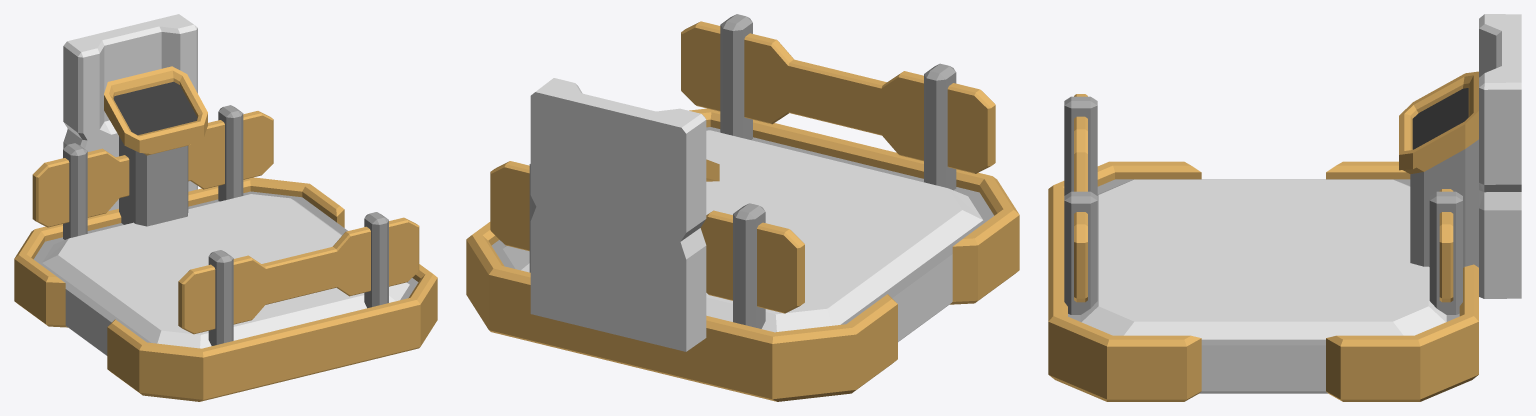
The model's file is SM_Platform.fbx.
3 views of the same model, side by side, from view 1: azimuth 30°, elevation 25°; view 2: azimuth 150°, elevation 25°; view 3: azimuth 270°, elevation 25° (orthographic). The views are drawn at different scales.
Parts seen in each view (by area): view 1: SM_Platform; view 2: SM_Platform; view 3: SM_Platform.
Boxes of the visible parts, x1,y1,x2,y2 form: SM_Platform: (14,14,437,401); SM_Platform: (466,14,1019,401); SM_Platform: (1048,14,1521,401).
Bounding box in the file's own units: 2.51 × 1.7 × 2.75.
